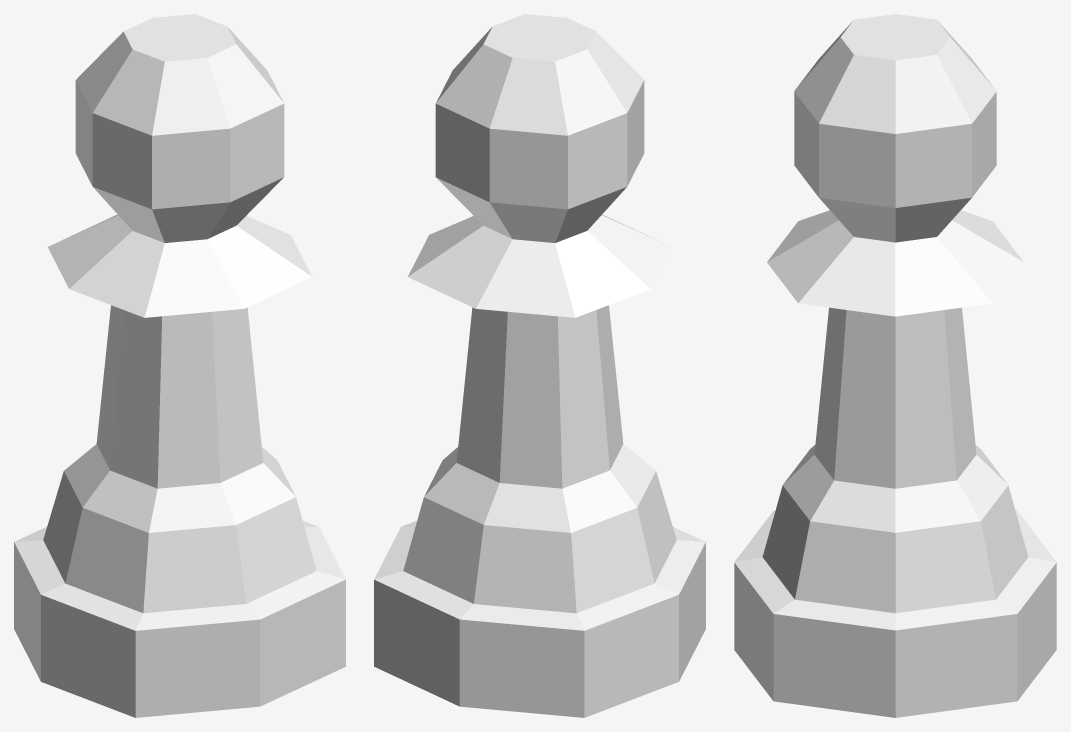
The model's file is CHAHIN_PAWN.obj.
3 views of the same model, side by side, from view 1: azimuth 30°, elevation 25°; view 2: azimuth 150°, elevation 25°; view 3: azimuth 270°, elevation 25° (orthographic).
Parts seen in each view (by area): view 1: Pawn_Cube.041; view 2: Pawn_Cube.041; view 3: Pawn_Cube.041.
Boxes of the visible parts, x1,y1,x2,y2 form: Pawn_Cube.041: [14, 14, 345, 717]; Pawn_Cube.041: [374, 14, 705, 717]; Pawn_Cube.041: [734, 14, 1056, 717].
Bounding box in the file's own units: 0.324 × 0.679 × 0.324.
Materials: 1 (1 with a texture image).
